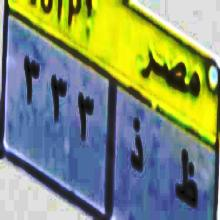3: (22, 49, 41, 112), (77, 93, 96, 153), (50, 69, 68, 131)
Thaa: (176, 138, 198, 217)
zaal: (128, 119, 146, 179)
